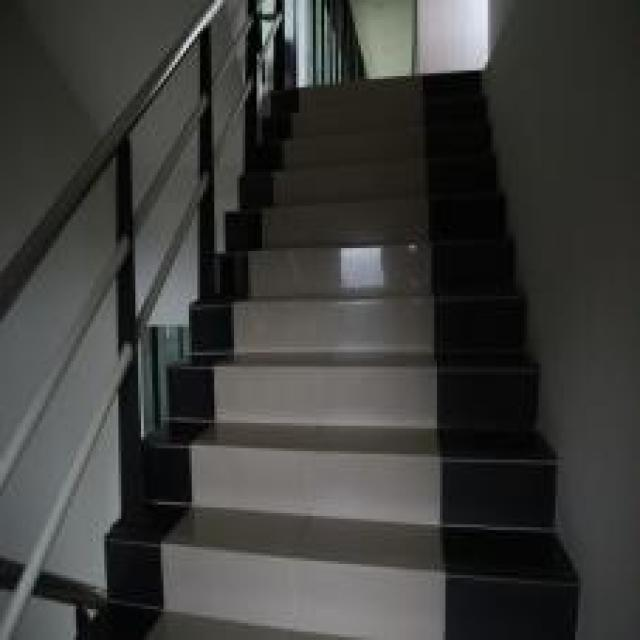upstair: (227, 134, 531, 571)
